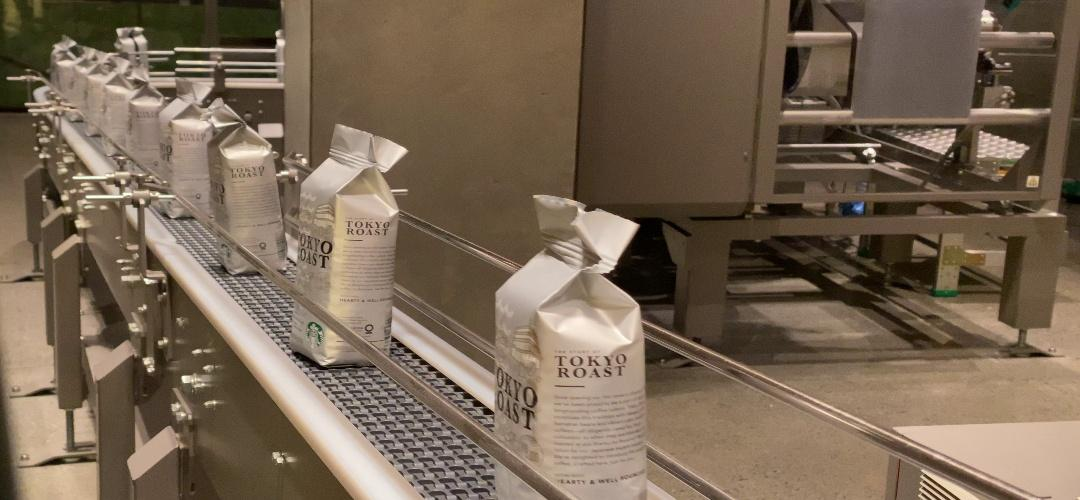conveyor: (493, 288, 642, 434), (298, 181, 394, 285), (204, 142, 280, 221)
